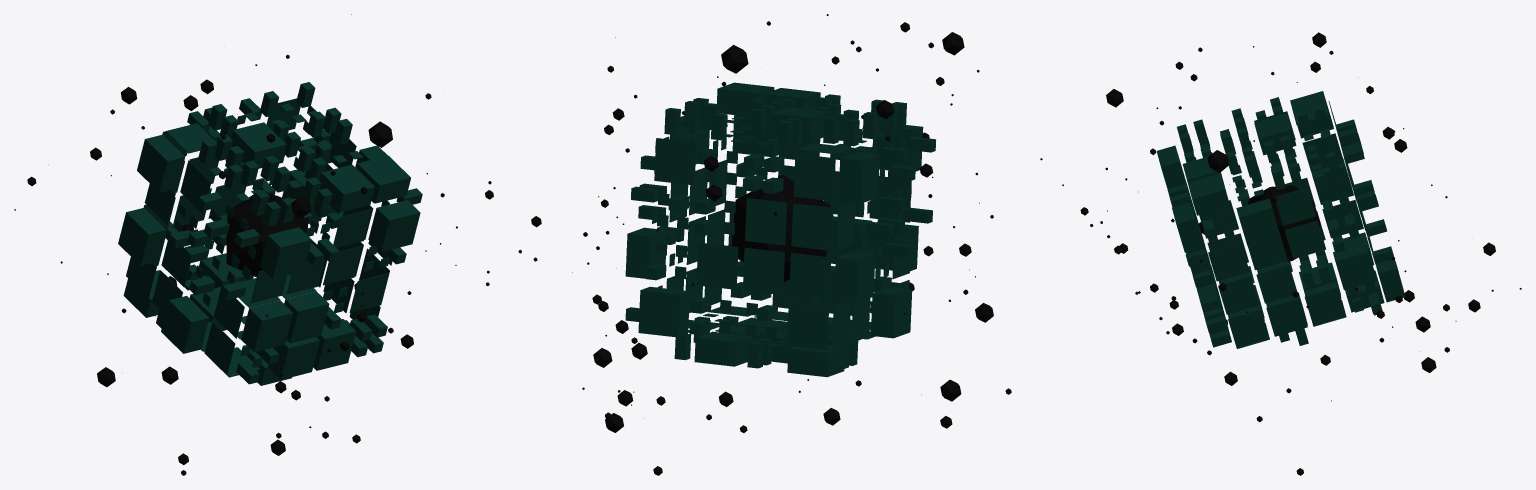
Rendered from Low_Poly_Planet_29.fbx.
3 renders of one model, left to right at view 1: azimuth 30°, elevation 25°; view 2: azimuth 150°, elevation 25°; view 3: azimuth 270°, elevation 25°, orthographic. The views are drawn at different scales.
Visible parts, largest first — view 1: Planet_29_fix; view 2: Planet_29_fix; view 3: Planet_29_fix.
Boxes of the visible parts, x1=… form: Planet_29_fix: x1=14, y1=14, x2=541, y2=475; Planet_29_fix: x1=572, y1=14, x2=1011, y2=475; Planet_29_fix: x1=1040, y1=32, x2=1521, y2=475.
Bounding box in the file's own units: 497 × 506 × 589.
